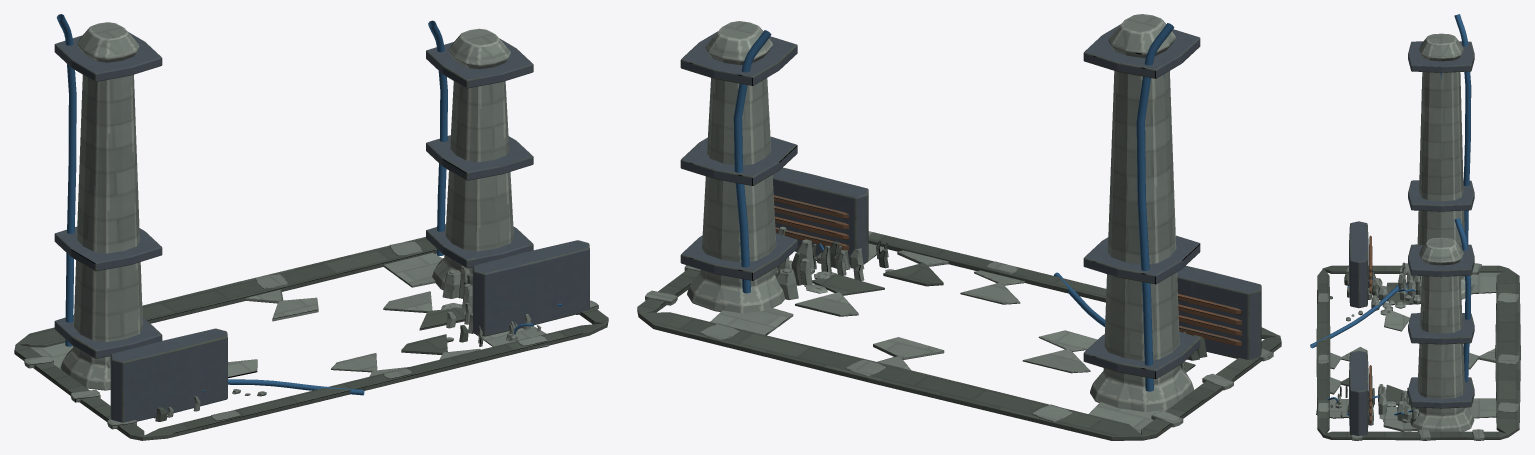
The model's file is breached_gate.glb.
3 views of the same model, side by side, from view 1: azimuth 30°, elevation 25°; view 2: azimuth 150°, elevation 25°; view 3: azimuth 270°, elevation 25° (orthographic). The views are drawn at different scales.
Visible parts, largest first — view 1: GT_0131_breached_gate_Structure, GT_0131_breached_gate_GroundContact; view 2: GT_0131_breached_gate_Structure, GT_0131_breached_gate_GroundContact; view 3: GT_0131_breached_gate_Structure, GT_0131_breached_gate_GroundContact.
Boxes of the visible parts, box(x1,y1,x2,y2) form: GT_0131_breached_gate_Structure: box(54, 14, 589, 422); GT_0131_breached_gate_GroundContact: box(14, 237, 608, 440); GT_0131_breached_gate_Structure: box(680, 14, 1261, 411); GT_0131_breached_gate_GroundContact: box(637, 231, 1281, 440); GT_0131_breached_gate_Structure: box(1310, 14, 1474, 435); GT_0131_breached_gate_GroundContact: box(1316, 263, 1520, 440).
Bounding box in the file's own units: 10.54 × 7.35 × 5.37.
1 material, 1 textured.
